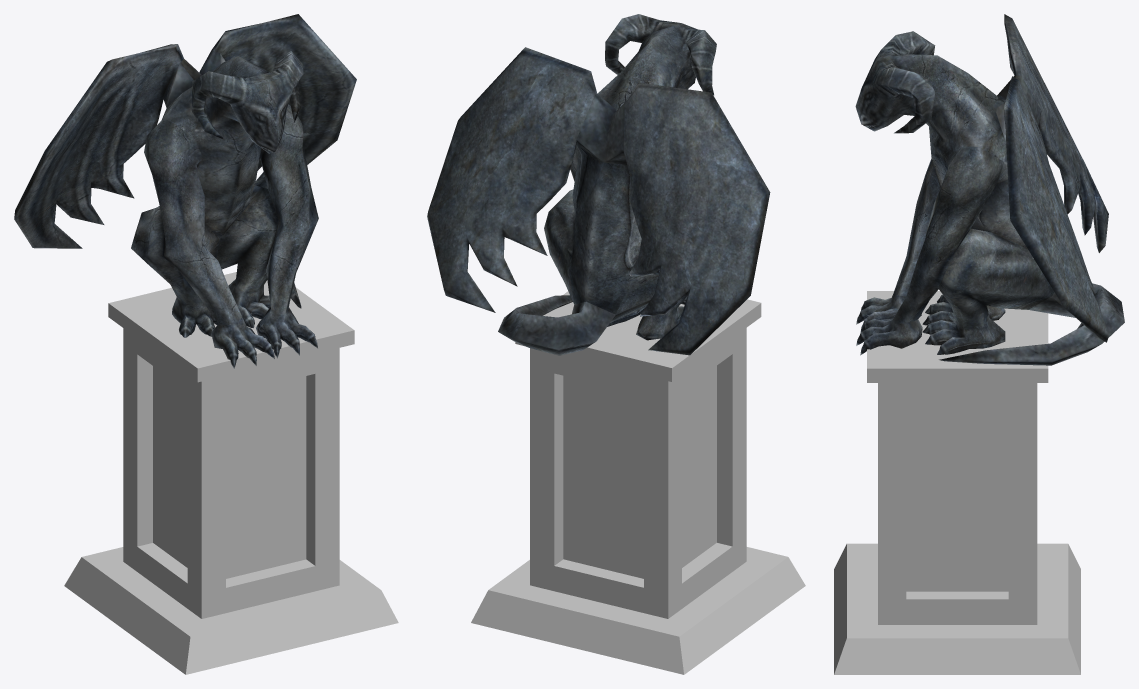
File: Gargoyle.FBX
The picture shows the model from 3 angles, left to right: view 1: azimuth 30°, elevation 25°; view 2: azimuth 150°, elevation 25°; view 3: azimuth 270°, elevation 25°; orthographic projection.
Parts seen in each view (by area): view 1: Object17, Gargoyle01; view 2: Gargoyle01, Object17; view 3: Object17, Gargoyle01.
Part boxes in pixels (x1,y1,x2,y2): Object17: (64, 272, 398, 674); Gargoyle01: (14, 14, 356, 368); Gargoyle01: (427, 14, 770, 355); Object17: (471, 291, 805, 674); Object17: (834, 291, 1080, 674); Gargoyle01: (855, 14, 1124, 365).
Bounding box in the file's own units: 16.98 × 28.11 × 13.02.
